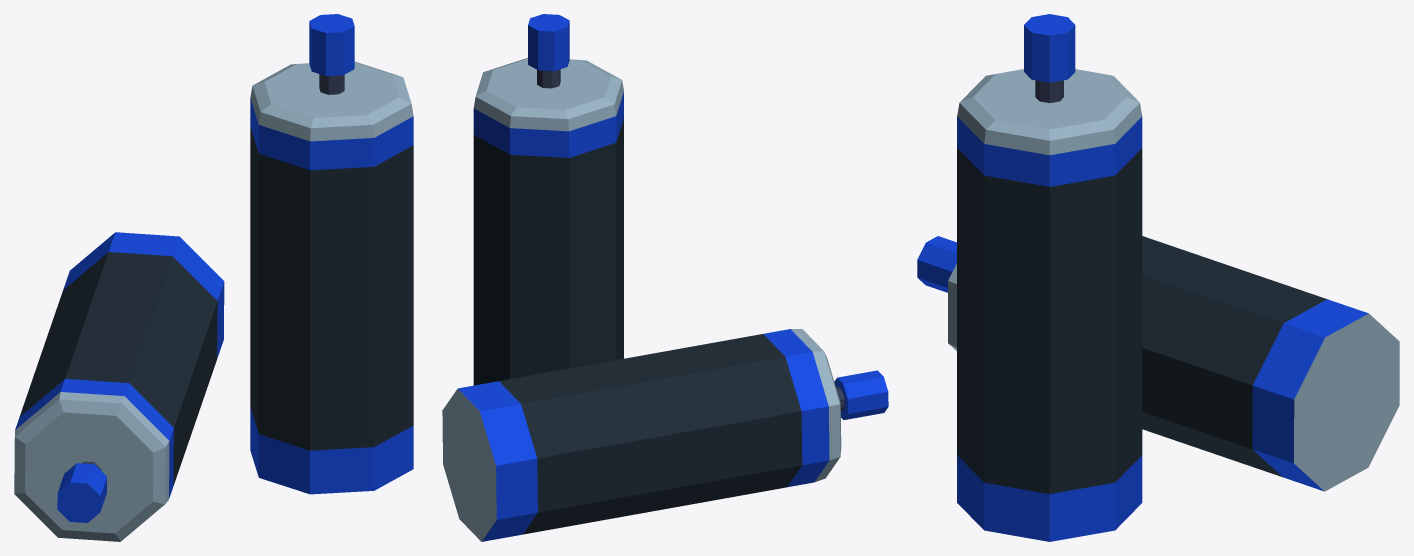
Rendered from SprayPaints.fbx.
3 views of the same model, side by side, from view 1: azimuth 30°, elevation 25°; view 2: azimuth 150°, elevation 25°; view 3: azimuth 270°, elevation 25° (orthographic). The views are drawn at different scales.
Parts seen in each view (by area): view 1: SprayPaints; view 2: SprayPaints; view 3: SprayPaints.
Part boxes in pixels (x1,y1,x2,y2): SprayPaints: (14,14,413,541); SprayPaints: (442,14,888,541); SprayPaints: (917,14,1399,541).
Bounding box in the file's own units: 108 × 115 × 104.
